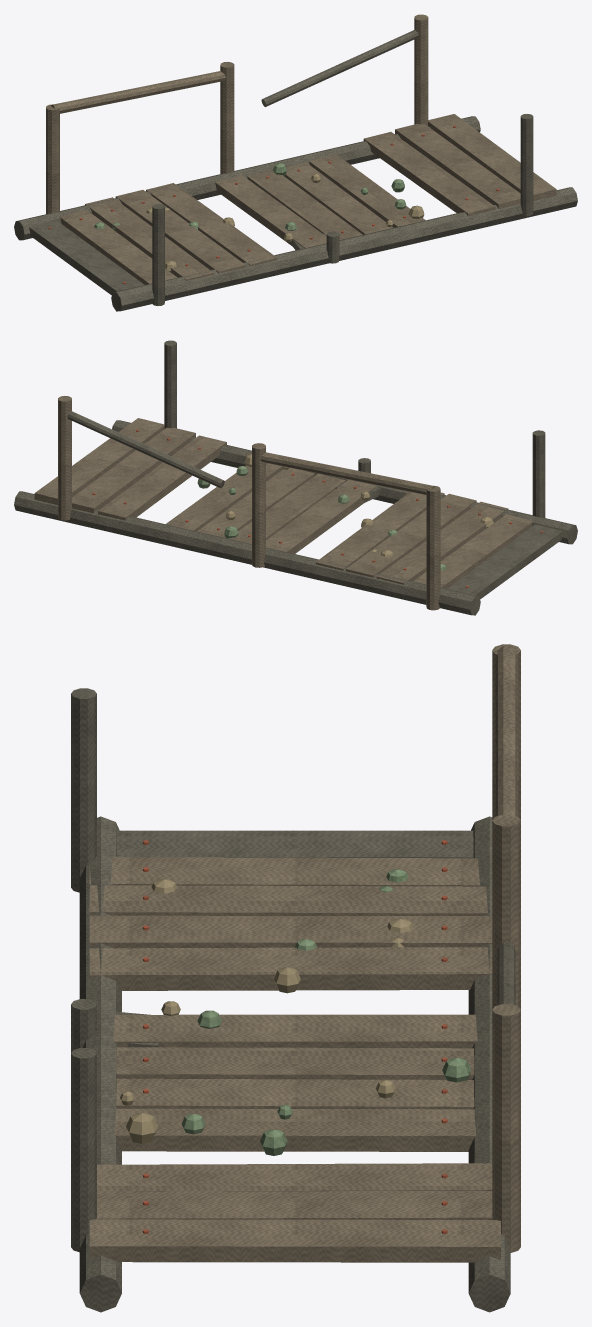
Rendered from damaged_footbridge_fragment.glb.
3 views of the same model, one above another, from view 1: azimuth 30°, elevation 25°; view 2: azimuth 150°, elevation 25°; view 3: azimuth 270°, elevation 25° (orthographic). The views are drawn at different scales.
Parts seen in each view (by area): view 1: AshfallDecorativeProp; view 2: AshfallDecorativeProp; view 3: AshfallDecorativeProp.
Boxes of the visible parts, bbox=[...] form: AshfallDecorativeProp: bbox=[14, 14, 577, 311]; AshfallDecorativeProp: bbox=[14, 340, 577, 615]; AshfallDecorativeProp: bbox=[71, 644, 520, 1312].
Size of the model in its own units: 3.74 by 1.01 by 1.6.
5 materials, 5 textured.
